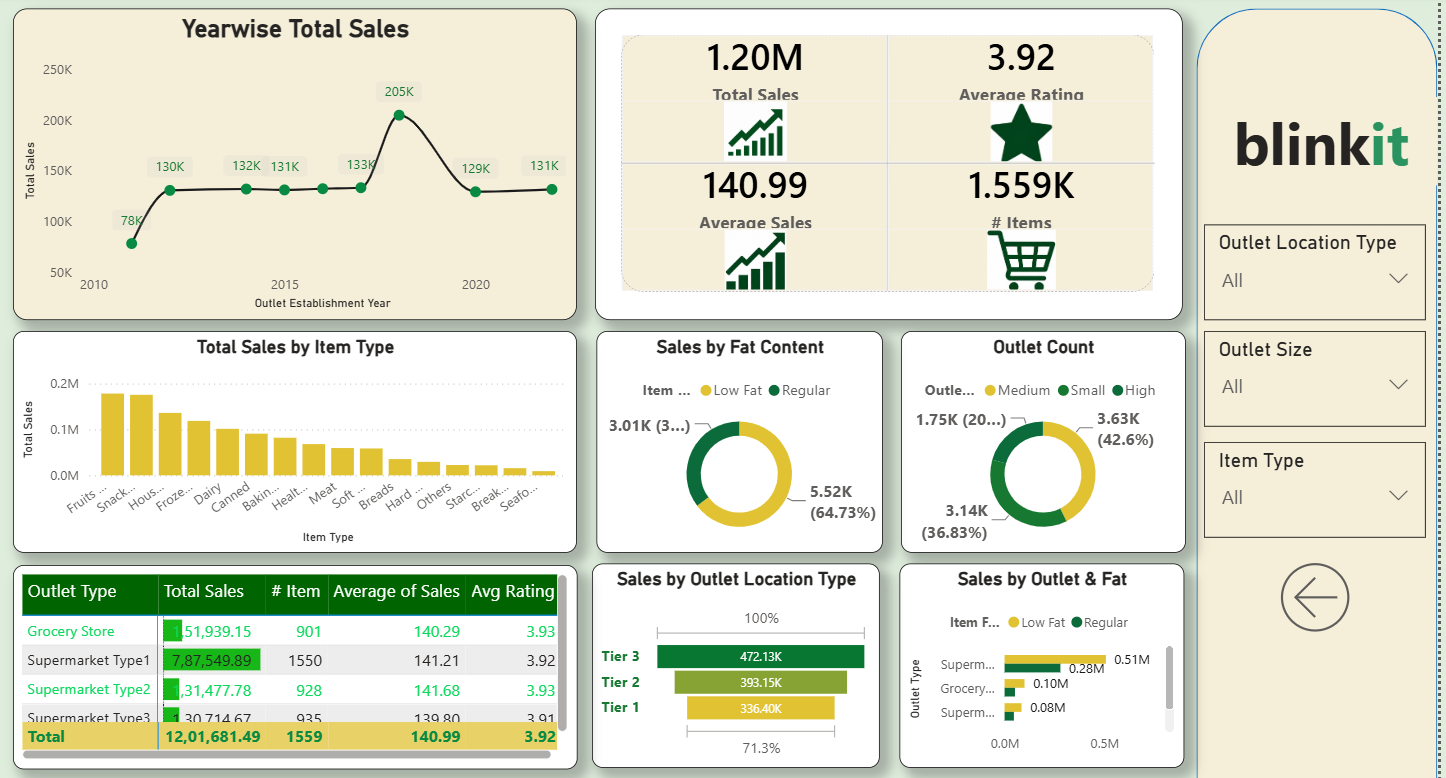

The dashboard page shown, as its layout file describes it:
{"tool":"powerbi","page":{"name":"Page 1","canvas":[1325,724],"ordinal":0},"visuals":[{"type":"shape","box":[1102.5,12.5,221.6,711.9],"z":0},{"type":"textbox","box":[1111.3,94,213.2,81.5],"z":1000},{"type":"cardVisual","fields":{"Data":["Sum(BlinkIT-Grocery-Data.Sales)","Avg(BlinkIT-Grocery-Data.Sales)","Avg(BlinkIT-Grocery-Data.Rating)","Count(BlinkIT-Grocery-Data.Item Identifier)"]},"box":[548.6,12.5,540.8,286.8],"z":2000},{"type":"lineChart","title":"Yearwise Total Sales","fields":{"Category":["BlinkIT-Grocery-Data.Outlet Establishment Year"],"Y":["BlinkIT-Grocery-Data.Total Sales"]},"box":[14.1,12.5,518.8,286.8],"z":3000},{"type":"donutChart","title":"Outlet Count","fields":{"Category":["BlinkIT-Grocery-Data.Outlet Size"],"Y":["CountNonNull(BlinkIT-Grocery-Data.Outlet Identifier)"]},"box":[830.7,308.8,261.8,203.8],"z":4000},{"type":"donutChart","title":"Sales by Fat Content","fields":{"Category":["BlinkIT-Grocery-Data.Item Fat Content"],"Y":["CountNonNull(BlinkIT-Grocery-Data.Item Identifier)"]},"box":[550.2,308.8,263.3,203.8],"z":5000},{"type":"clusteredBarChart","title":"Sales by Outlet & Fat","fields":{"Series":["BlinkIT-Grocery-Data.Item Fat Content"],"Category":["BlinkIT-Grocery-Data.Outlet Type"],"Y":["BlinkIT-Grocery-Data.Total Sales"]},"box":[829.2,523.5,261.8,188.1],"z":6000},{"type":"clusteredColumnChart","fields":{"Category":["BlinkIT-Grocery-Data.Item Type"],"Y":["BlinkIT-Grocery-Data.Total Sales"]},"box":[14.1,308.8,518.8,203.8],"z":7000},{"type":"funnel","title":" Sales by Outlet Location Type","fields":{"Y":["BlinkIT-Grocery-Data.Total Sales"],"Category":["BlinkIT-Grocery-Data.Outlet Location Type"]},"box":[547,523.5,264.9,188.1],"z":8000},{"type":"pivotTable","fields":{"Rows":["BlinkIT-Grocery-Data.Outlet Type"],"Values":["BlinkIT-Grocery-Data.Total Sales","Count(BlinkIT-Grocery-Data.Item Identifier)","Avg(BlinkIT-Grocery-Data.Sales)","Avg(BlinkIT-Grocery-Data.Rating)"]},"box":[14,524,519,188],"z":9000},{"type":"slicer","fields":{"Values":["BlinkIT-Grocery-Data.Outlet Location Type"]},"box":[1109.7,211.6,203.8,87.8],"z":10000},{"type":"slicer","fields":{"Values":["BlinkIT-Grocery-Data.Item Type"]},"box":[1109.5,411.2,203.8,87.8],"z":11000},{"type":"slicer","fields":{"Values":["BlinkIT-Grocery-Data.Outlet Size"]},"box":[1109.7,308.8,203.8,87.8],"z":12000},{"type":"actionButton","title":"RESET","box":[1171.7,512.5,80.3,84.5],"z":13000}]}

Visuals, with their boxes in screenshot pixels (x1, y1, x2, y2), scaled from the page's 1325x724 canvas onto the 1446x778 screenshot:
shape: box=[1203, 13, 1445, 777]
textbox: box=[1213, 101, 1445, 189]
cardVisual - Sum(BlinkIT-Grocery-Data.Sales) x Avg(BlinkIT-Grocery-Data.Sales): box=[599, 13, 1189, 322]
"Yearwise Total Sales" lineChart: box=[15, 13, 582, 322]
"Outlet Count" donutChart: box=[907, 332, 1192, 551]
"Sales by Fat Content" donutChart: box=[600, 332, 888, 551]
"Sales by Outlet & Fat" clusteredBarChart: box=[905, 563, 1191, 765]
clusteredColumnChart - BlinkIT-Grocery-Data.Item Type x BlinkIT-Grocery-Data.Total Sales: box=[15, 332, 582, 551]
" Sales by Outlet Location Type" funnel: box=[597, 563, 886, 765]
pivotTable - BlinkIT-Grocery-Data.Outlet Type x BlinkIT-Grocery-Data.Total Sales: box=[15, 563, 582, 765]
slicer - BlinkIT-Grocery-Data.Outlet Location Type: box=[1211, 227, 1433, 322]
slicer - BlinkIT-Grocery-Data.Item Type: box=[1211, 442, 1433, 536]
slicer - BlinkIT-Grocery-Data.Outlet Size: box=[1211, 332, 1433, 426]
"RESET" actionButton: box=[1279, 551, 1366, 642]
